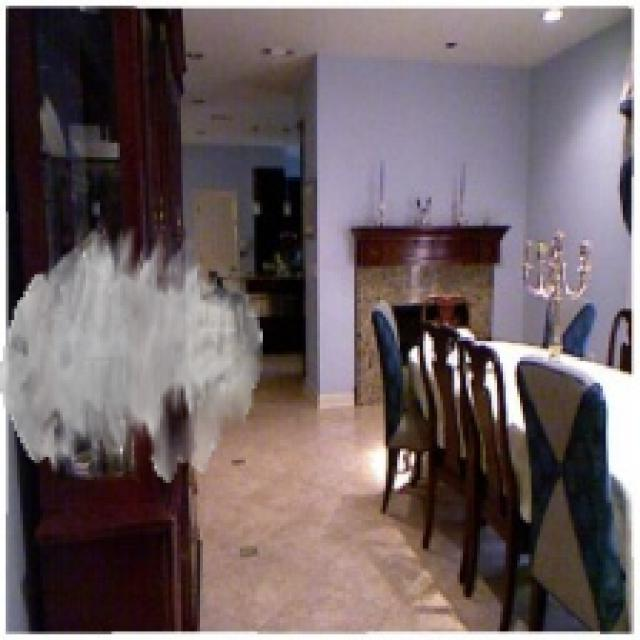smoke: (0, 226, 263, 483)
